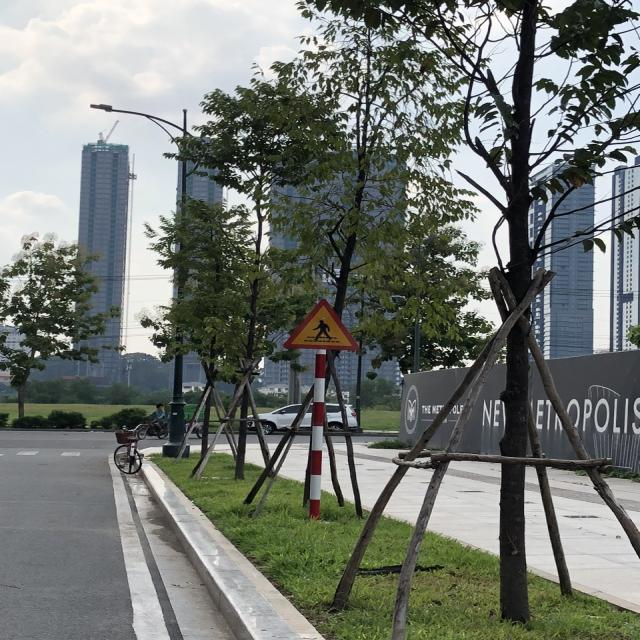Bien bao duong nguoi di bo cat ngang: (275, 294, 373, 359)
